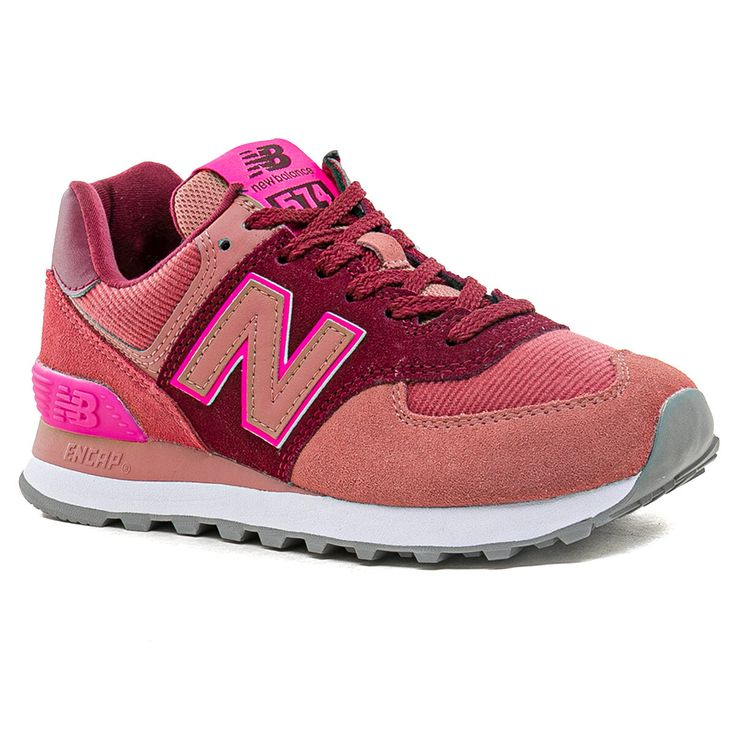gamuza: (42, 233, 700, 507)
